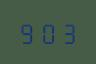nine: (18, 20, 36, 44)
three: (57, 20, 75, 44)
zero: (38, 20, 56, 44)
